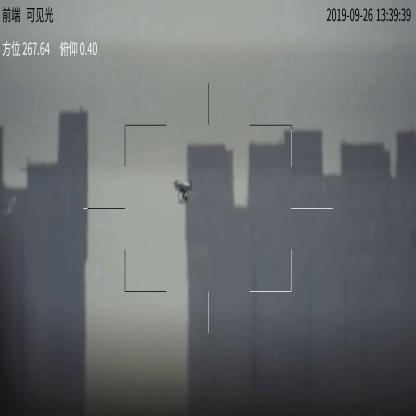uav: (171, 179, 195, 203)
